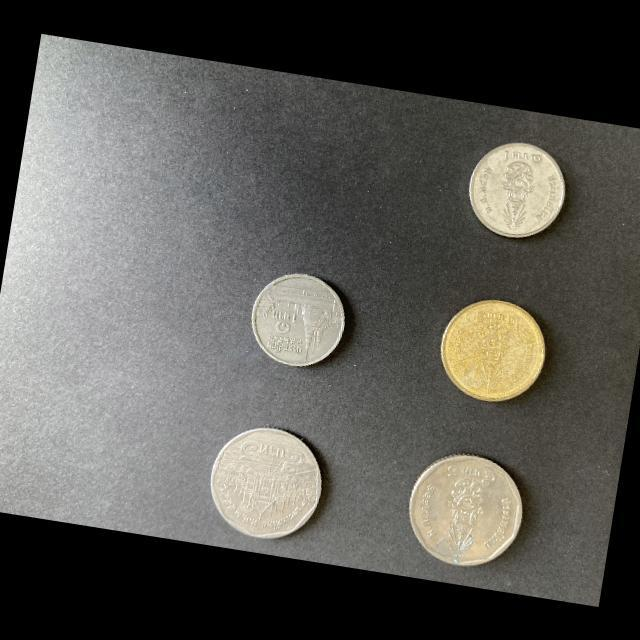1 Bath: (247, 266, 349, 373), (470, 137, 570, 243)
2 Bath: (439, 293, 554, 410)
5 Bath: (409, 448, 529, 571), (212, 427, 328, 545)
